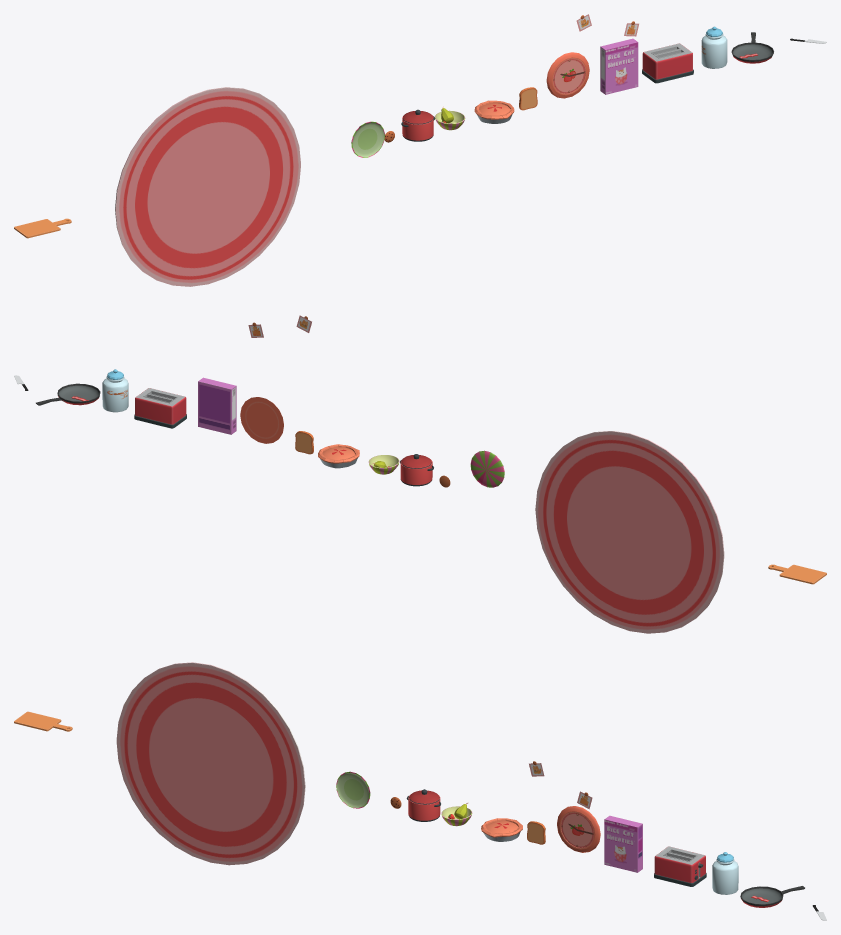
Rendered from Props2.fbx.
The picture shows the model from 3 angles, top to bottom: view 1: azimuth 30°, elevation 25°; view 2: azimuth 150°, elevation 25°; view 3: azimuth 330°, elevation 25°; orthographic projection.
Visible parts, largest first — view 1: Rug cirle, Box001, Toasterrrr, Clock, Cookie Jar, Plate, potttt, Pan, Pie, Chopping Board; view 2: Rug cirle, Box001, Toasterrrr, Clock, Cookie Jar, Plate, potttt, Pan, Pie, Chopping Board; view 3: Rug cirle, Box001, Toasterrrr, Clock, Plate, Cookie Jar, potttt, Pan, Pie, Chopping Board.
Part boxes in pixels (x1,y1,x2,y2): Rug cirle: [115, 87, 300, 286]; Box001: [600, 38, 638, 94]; Toasterrrr: [642, 43, 693, 83]; Clock: [546, 52, 589, 98]; Cookie Jar: [701, 26, 727, 68]; Plate: [351, 121, 384, 157]; potttt: [401, 109, 435, 141]; Pan: [731, 32, 773, 63]; Pie: [474, 100, 514, 123]; Chopping Board: [14, 218, 71, 238]; Rug cirle: [535, 431, 724, 633]; Box001: [198, 377, 236, 434]; Toasterrrr: [134, 388, 186, 428]; Clock: [240, 397, 283, 443]; Cookie Jar: [102, 369, 128, 412]; Plate: [470, 450, 504, 487]; potttt: [400, 454, 433, 486]; Pan: [36, 383, 100, 405]; Pie: [318, 444, 359, 468]; Chopping Board: [768, 564, 826, 584]; Rug cirle: [116, 662, 305, 865]; Box001: [604, 815, 642, 872]; Toasterrrr: [654, 846, 706, 886]; Clock: [557, 806, 600, 852]; Plate: [336, 771, 370, 808]; Cookie Jar: [712, 852, 738, 894]; potttt: [406, 789, 440, 821]; Pan: [740, 886, 804, 907]; Pie: [481, 818, 522, 841]; Chopping Board: [14, 711, 72, 731].
Size of the model in its own units: 1031 by 252 by 107.
